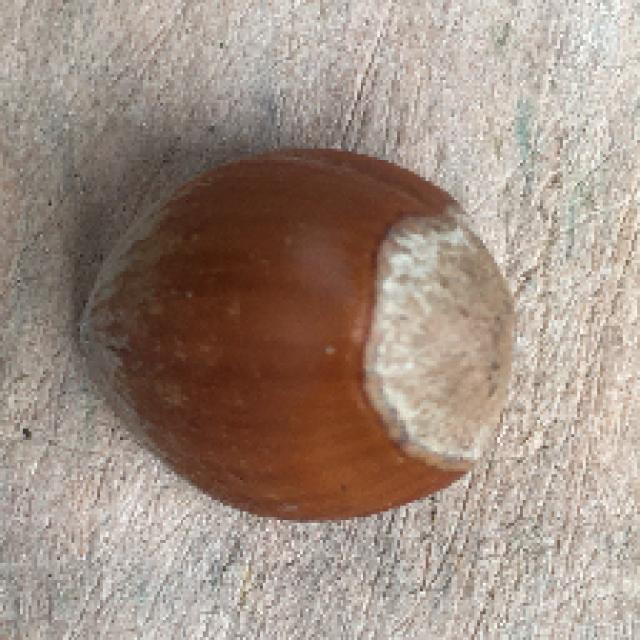qualityHazelnut: (80, 143, 522, 526)
